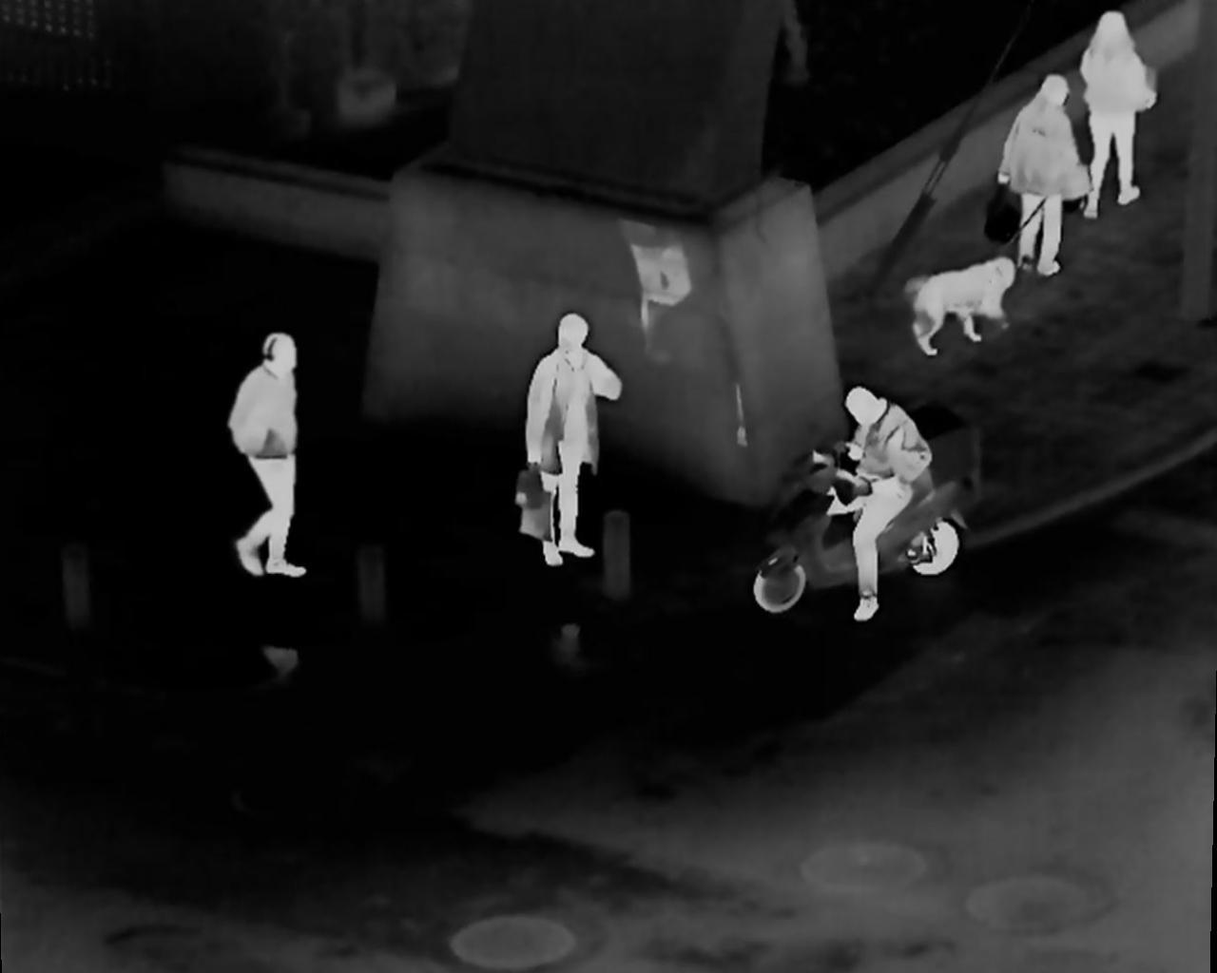person: (523, 313, 621, 564), (829, 391, 926, 635), (226, 335, 313, 578), (1009, 71, 1079, 277), (1085, 6, 1147, 212)
